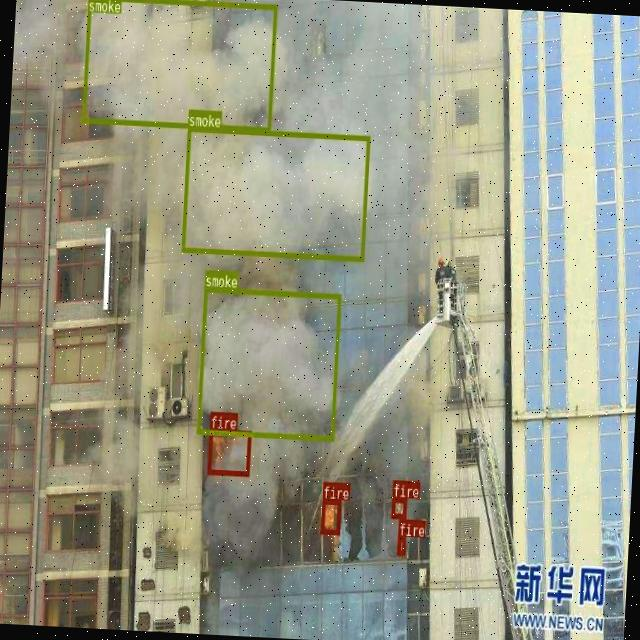fire: (208, 428, 250, 475), (320, 499, 340, 534), (392, 497, 406, 518), (397, 536, 405, 554)
smoke: (81, 0, 276, 131), (182, 127, 370, 260), (197, 287, 341, 440)
